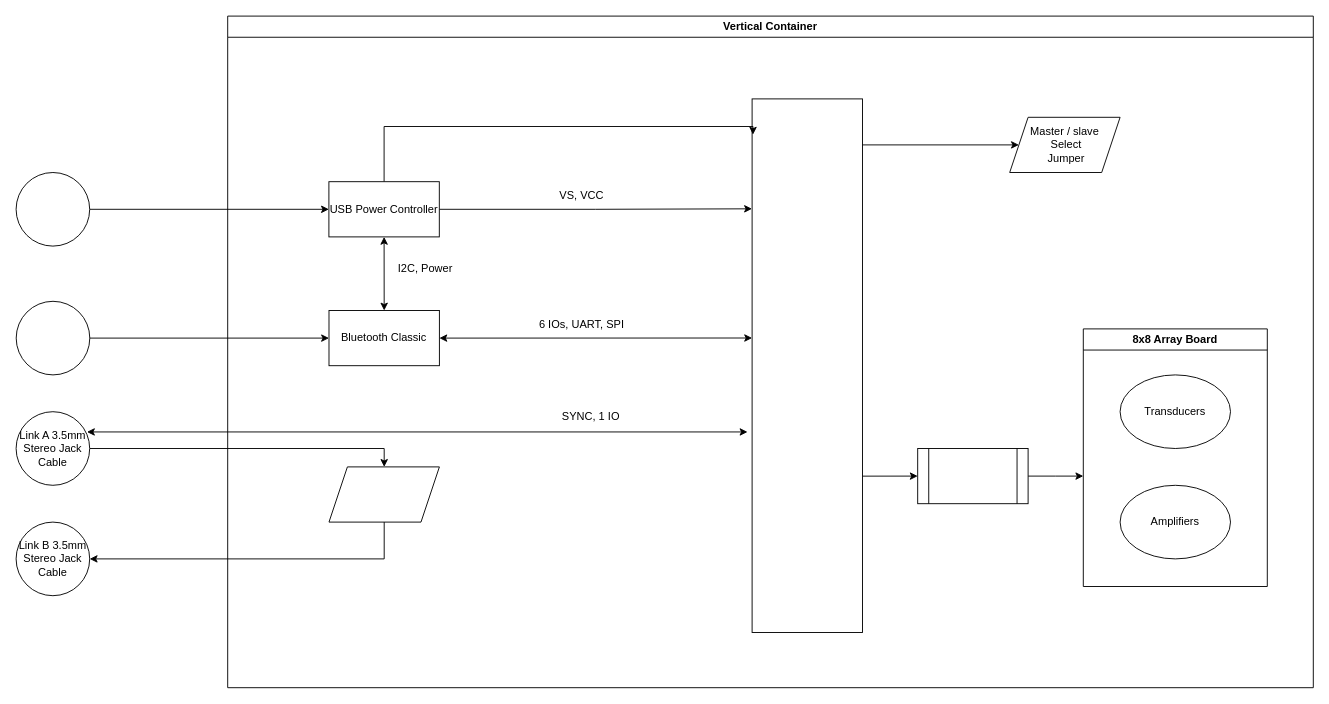
Some shapes in this 1329 by 704 pixel diagram are drawn without their labels. Here are the shapes that lost their labels. From the top down, the centre of each, then its label:
the point at 52,209: QC3 or PD3 20W+ USB C Battery
the point at 52,337: Debug Micro USB from Computer
the point at 806,365: FPGA
the point at 383,494: Jumper
the point at 972,476: Speaker Signals VS GND
